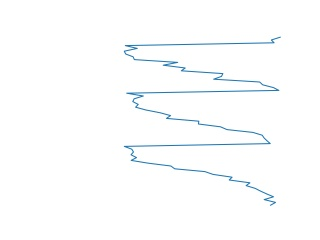distributaryMouthBar: (121, 34, 283, 208)
